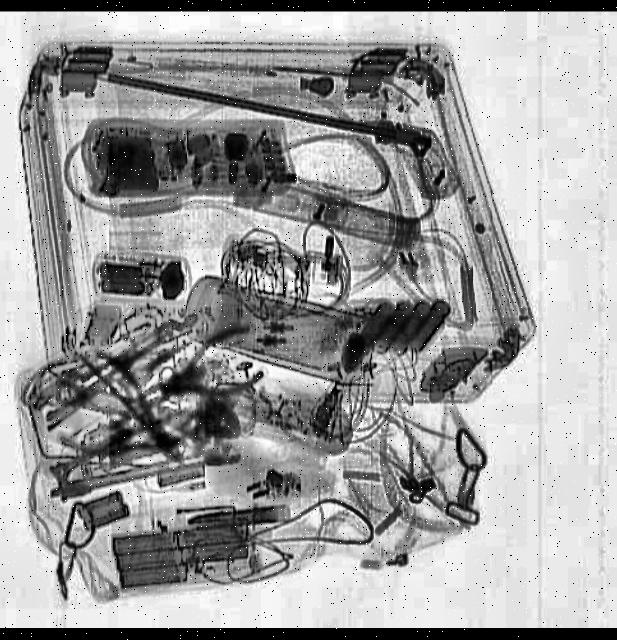Pliers: (123, 321, 272, 438)
